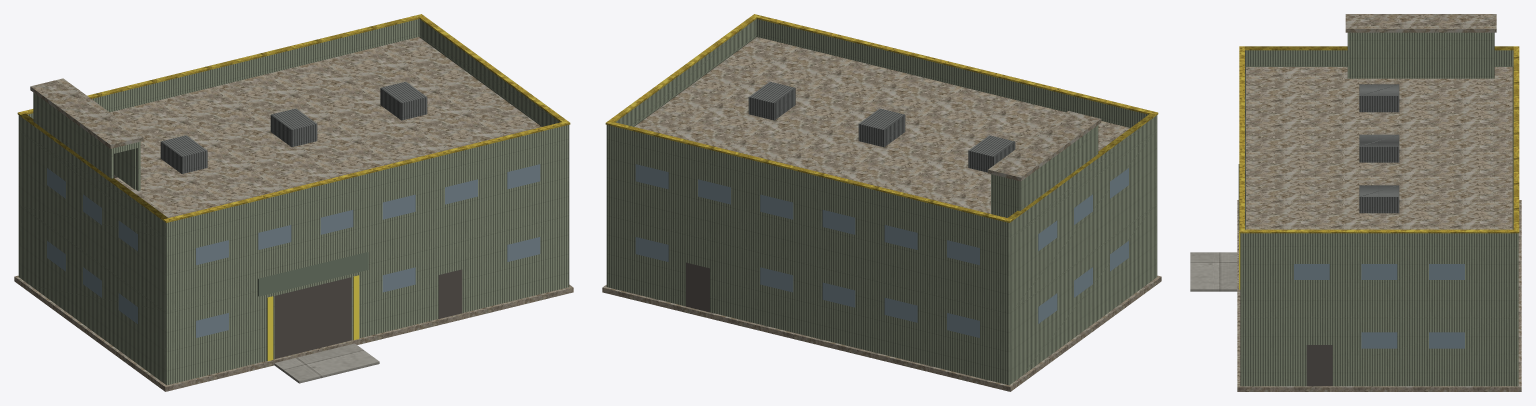
Rendered from mb-armory.reveal-v1.lod1.glb.
3 views of the same model, side by side, from view 1: azimuth 30°, elevation 25°; view 2: azimuth 150°, elevation 25°; view 3: azimuth 270°, elevation 25° (orthographic). The views are drawn at different scales.
Visible parts, largest first — view 1: mb-armory; view 2: mb-armory; view 3: mb-armory.
Part boxes in pixels (left/top/right/bottom): mb-armory: left=14, top=14, right=573, bottom=391; mb-armory: left=602, top=14, right=1161, bottom=391; mb-armory: left=1190, top=14, right=1521, bottom=391.
Size of the model in its own units: 22.3 by 10.67 by 16.65.
Materials: 4 (3 with a texture image).
